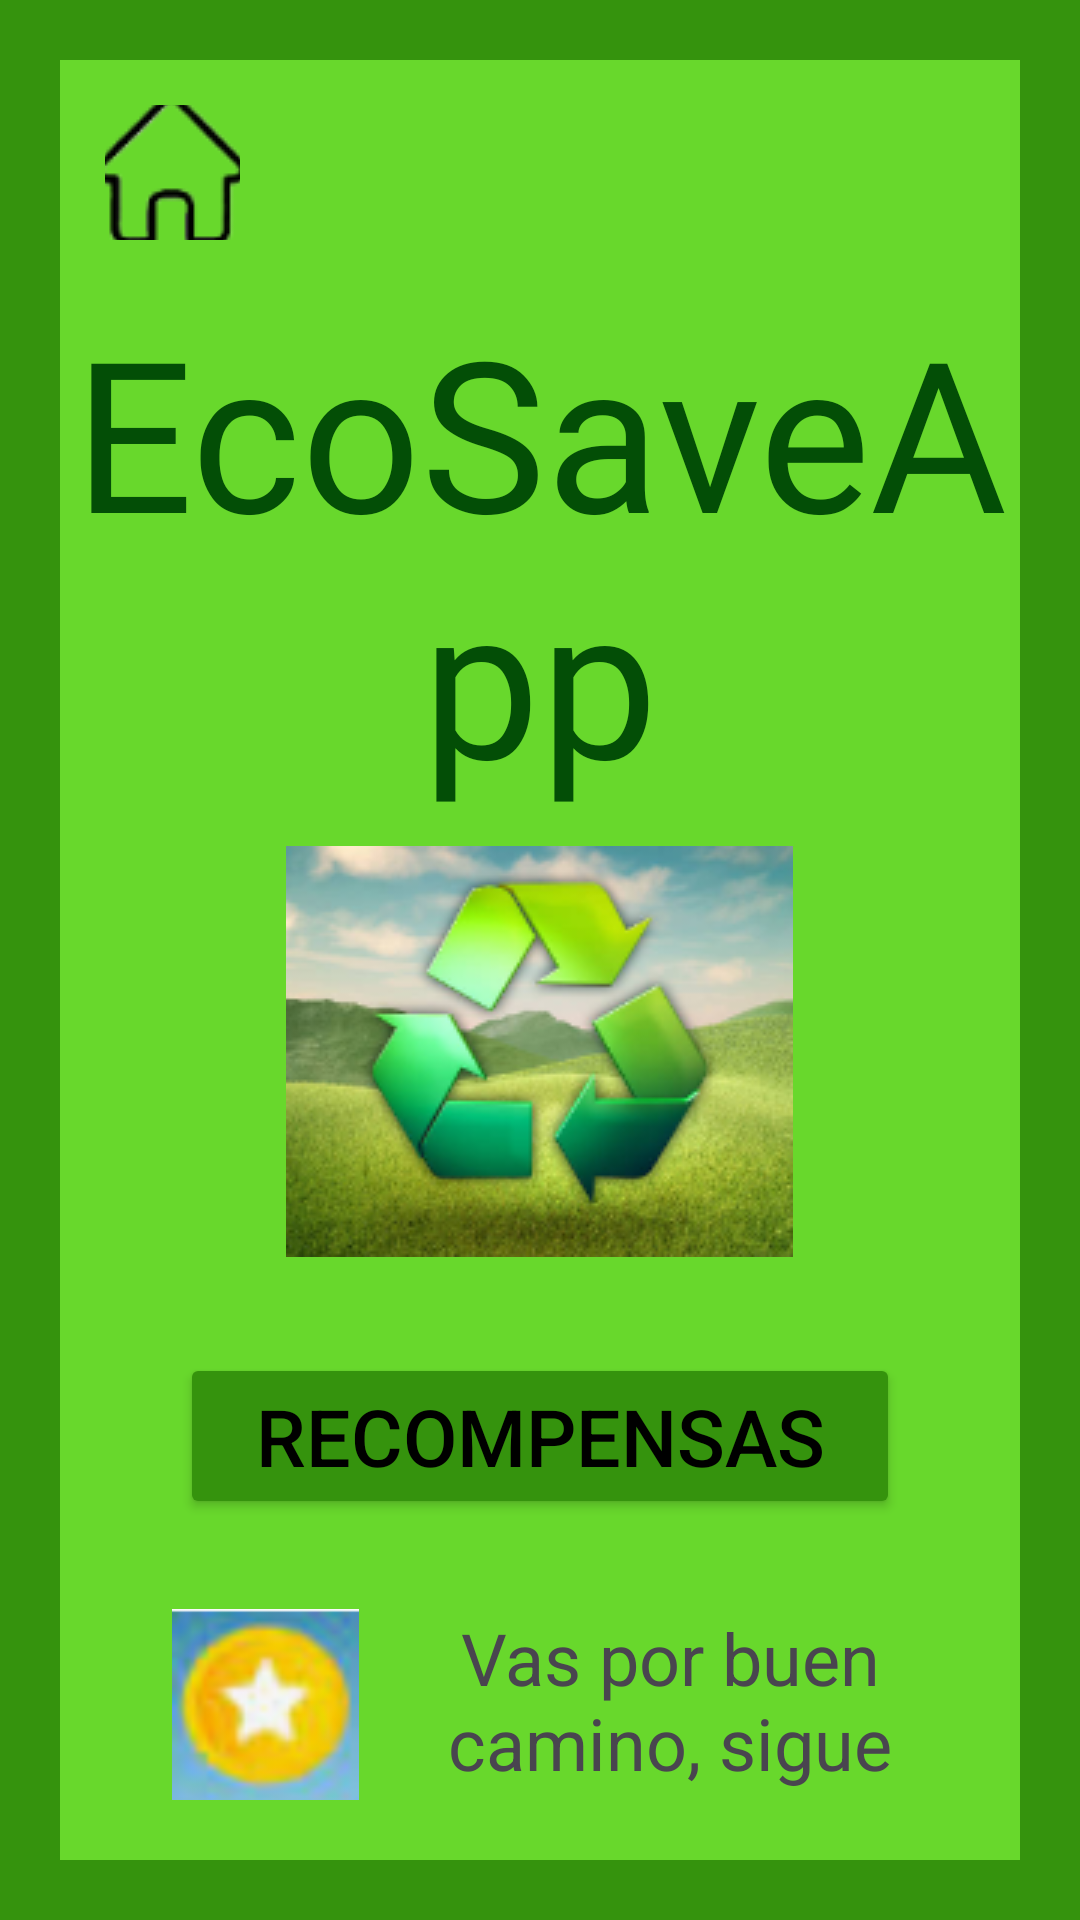

Named icons in this screenshot (1080x1920) and their bounding boxes, (x1, y1, x2, y2):
casa: (105, 105, 240, 240)
estrella: (172, 1609, 359, 1800)
